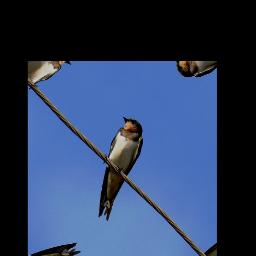Swallow: (64, 110, 168, 224)
